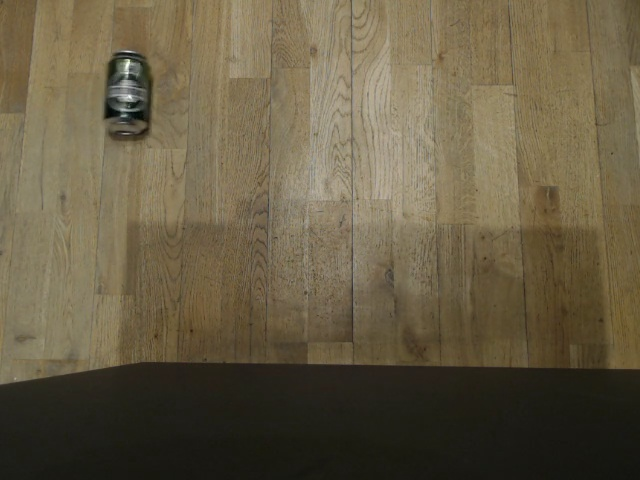beer: (101, 48, 155, 141)
